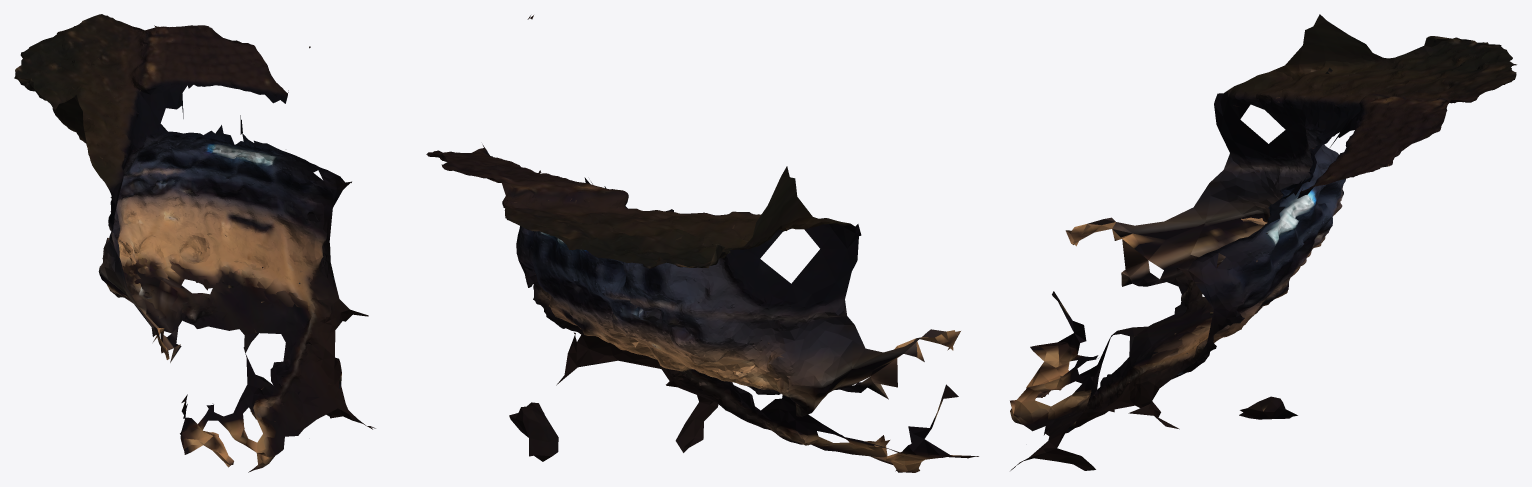
File: texturedMesh.obj
3 views of the same model, side by side, from view 1: azimuth 30°, elevation 25°; view 2: azimuth 150°, elevation 25°; view 3: azimuth 270°, elevation 25° (orthographic). The views are drawn at different scales.
Parts seen in each view (by area): view 1: TexturedMesh; view 2: TexturedMesh; view 3: TexturedMesh.
Boxes of the visible parts, bbox=[...] form: TexturedMesh: bbox=[14, 14, 375, 472]; TexturedMesh: bbox=[426, 15, 978, 472]; TexturedMesh: bbox=[1010, 14, 1516, 470].
Bounding box in the file's own units: 1.77 × 2.39 × 2.75.
Materials: 1 (1 with a texture image).
